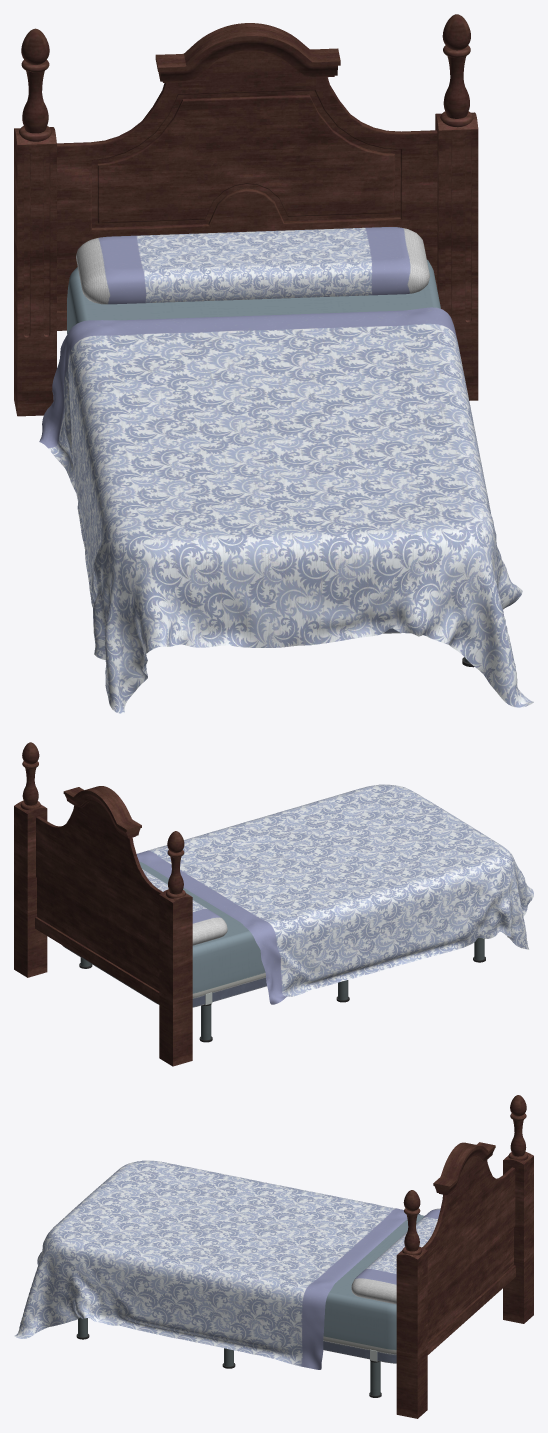
File: Cama.fbx
3 renders of one model, top to bottom at view 1: azimuth 30°, elevation 25°; view 2: azimuth 150°, elevation 25°; view 3: azimuth 270°, elevation 25°, orthographic. The views are drawn at different scales.
Parts seen in each view (by area): view 1: Grid.002, Circle.006, Cube.050, Cube.057, Cube.049, Cube.011, Sphere.004; view 2: Grid.002, Circle.006, Cube.057, Cube.049, Sphere.004, Cube.058, Cube.011, Cube.050, Cube.047, Cylinder.003; view 3: Grid.002, Circle.006, Cube.057, Cube.049, Cube.050, Sphere.004, Cube.011, Cube.058, Cube.047, Cylinder.003.
Part boxes in pixels (x1,y1,x2,y2): Grid.002: (39,307,533,713); Circle.006: (57,51,437,310); Cube.050: (76,227,430,304); Cube.057: (14,112,478,416); Cube.049: (67,259,440,333); Cube.011: (155,23,340,82); Sphere.004: (19,14,473,141); Grid.002: (136,784,533,1004); Circle.006: (36,801,162,991); Cube.057: (14,800,192,1066); Cube.049: (139,861,265,997); Sphere.004: (20,742,185,898); Cube.058: (35,917,159,1003); Cube.011: (63,786,141,838); Cube.050: (142,869,227,945); Cube.047: (62,945,266,1007); Cylinder.003: (79,957,212,1042); Grid.002: (14,1160,420,1369); Circle.006: (422,1156,515,1341); Cube.057: (396,1151,533,1418); Cube.049: (323,1214,424,1354); Cube.050: (351,1208,440,1304); Sphere.004: (402,1095,528,1255); Cube.011: (433,1142,495,1195); Cube.058: (427,1265,515,1354); Cube.047: (323,1340,396,1363); Cylinder.003: (369,1360,381,1397).
Size of the model in its own units: 266 by 159 by 335.
